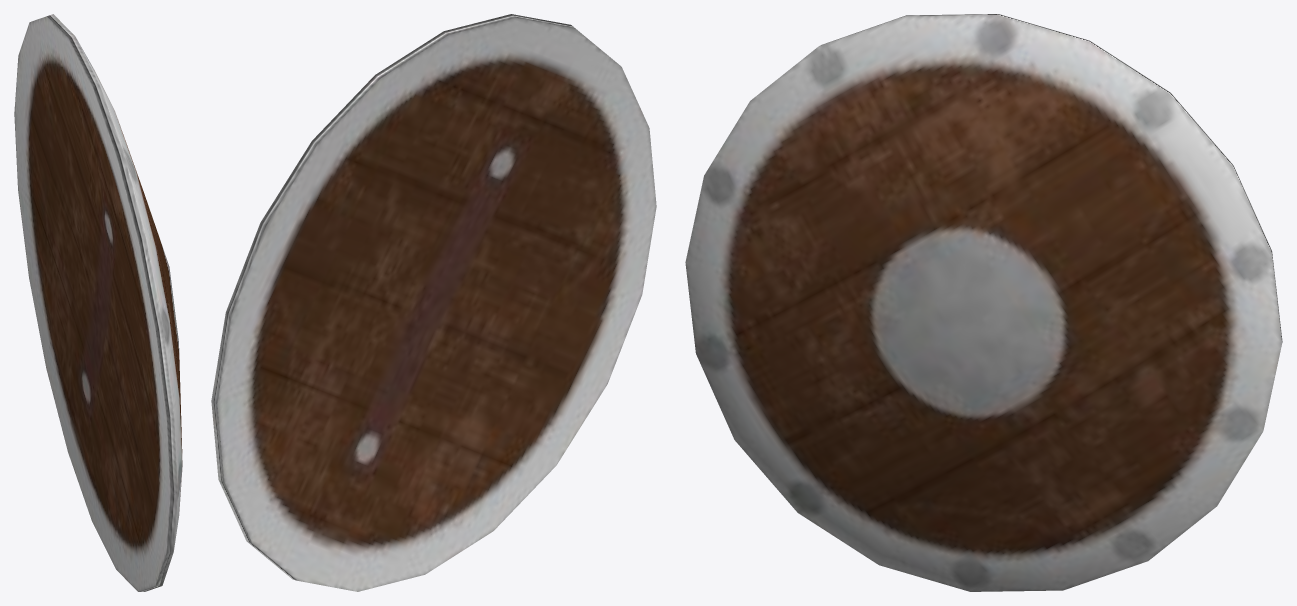
Rendered from shield-coppershields.glb.
The picture shows the model from 3 angles, left to right: view 1: azimuth 30°, elevation 25°; view 2: azimuth 150°, elevation 25°; view 3: azimuth 270°, elevation 25°; orthographic projection. The views are drawn at different scales.
Bounding box in the file's own units: 0.1554 × 0.5322 × 0.5154.
Materials: 1 (1 with a texture image).
